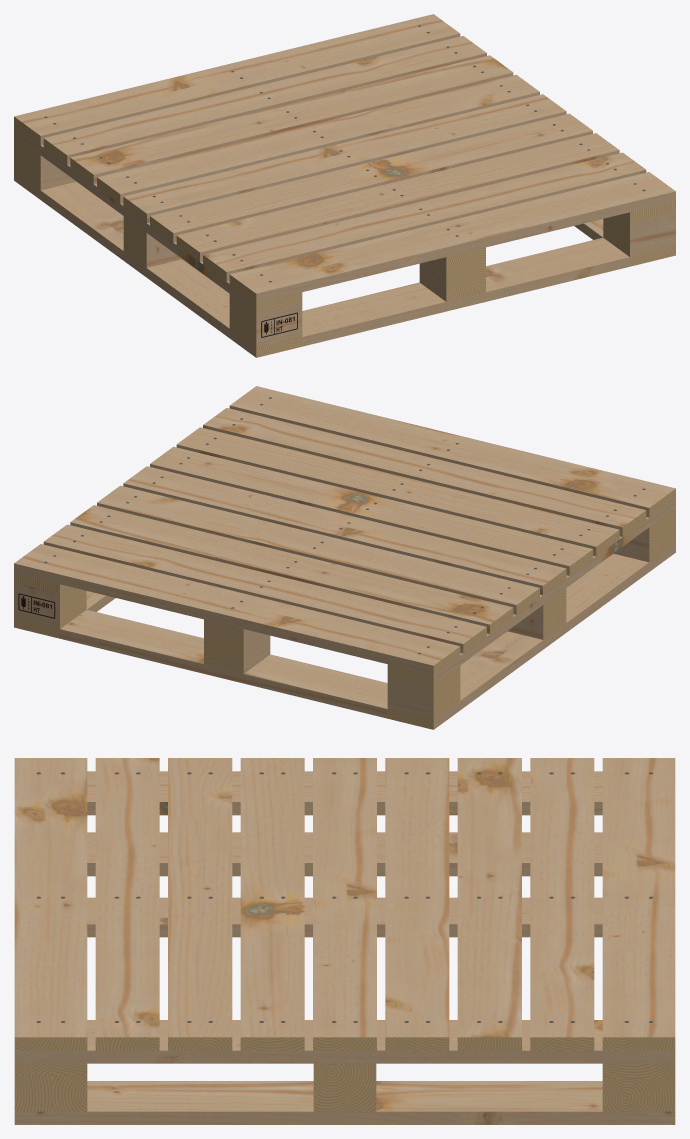
The model's file is pw07-pinewood-pallet-1000x1000.glb.
The picture shows the model from 3 angles, top to bottom: view 1: azimuth 30°, elevation 25°; view 2: azimuth 150°, elevation 25°; view 3: azimuth 270°, elevation 25°; orthographic projection. The views are drawn at different scales.
Parts seen in each view (by area): view 1: pw07-pinewood-pallet-1000x1000; view 2: pw07-pinewood-pallet-1000x1000; view 3: pw07-pinewood-pallet-1000x1000.
Boxes of the visible parts, <box> form: pw07-pinewood-pallet-1000x1000: <box>14,14,675,357</box>; pw07-pinewood-pallet-1000x1000: <box>14,386,675,729</box>; pw07-pinewood-pallet-1000x1000: <box>14,758,675,1124</box>.
Bounding box in the file's own units: 1 × 0.147 × 1.
Materials: 4 (3 with a texture image).
